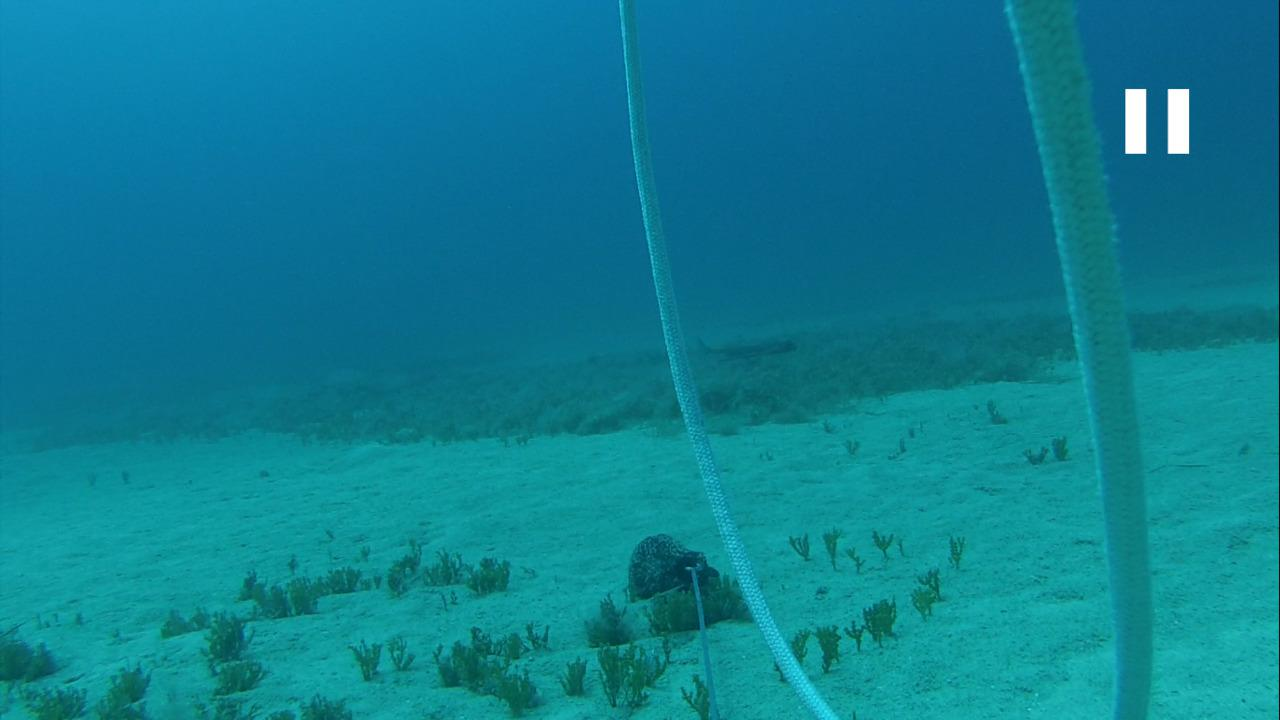dactylopterus: (704, 334, 801, 370)
